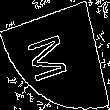M_E: (30, 26, 80, 84)
